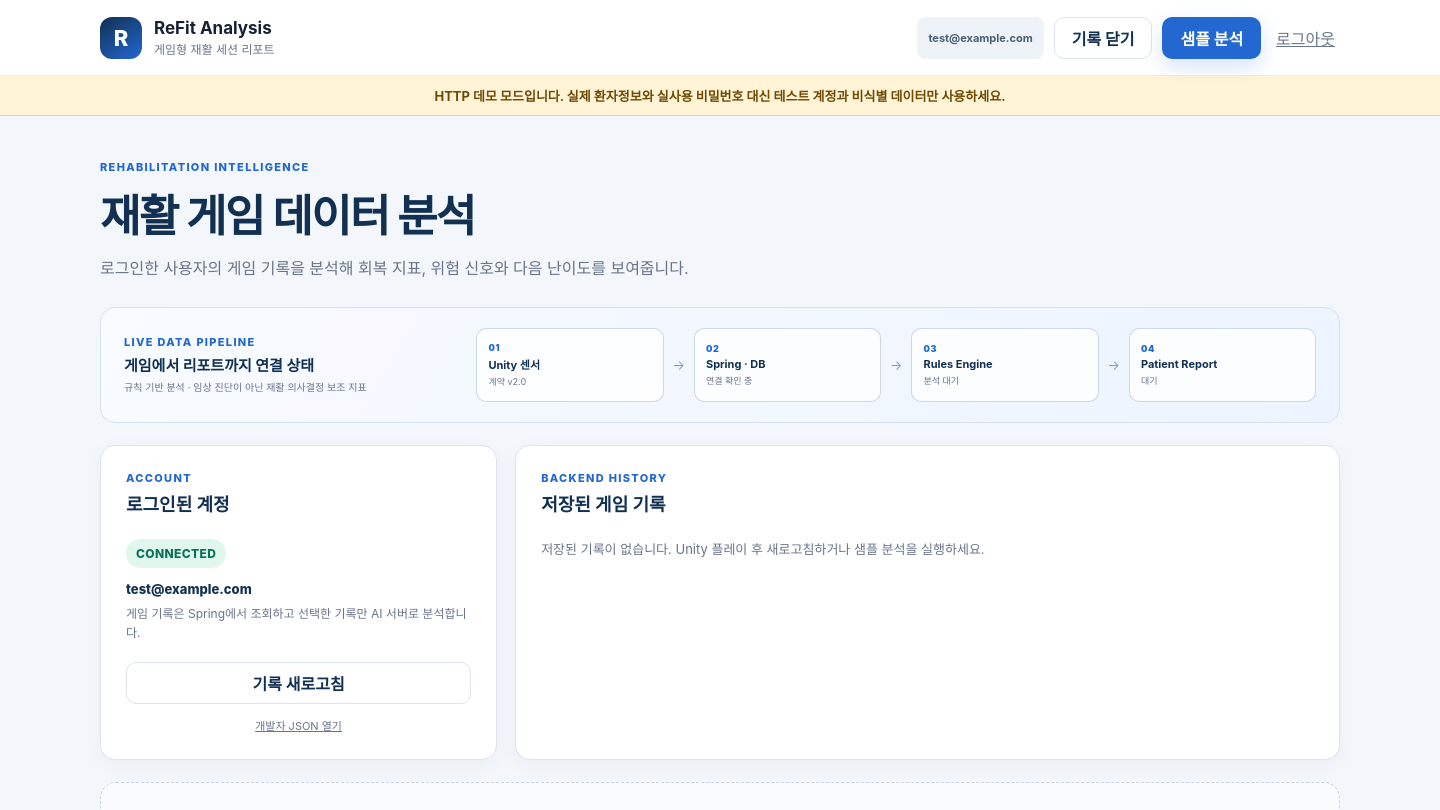
Scenario: falls back to the latest persisted result when a new analysis is unavailable
The width and height of the screenshot is (1440, 810).
Step 1. Click the button "기록 새로고침" → (299, 683), box x1=126 y1=662 x2=471 y2=704
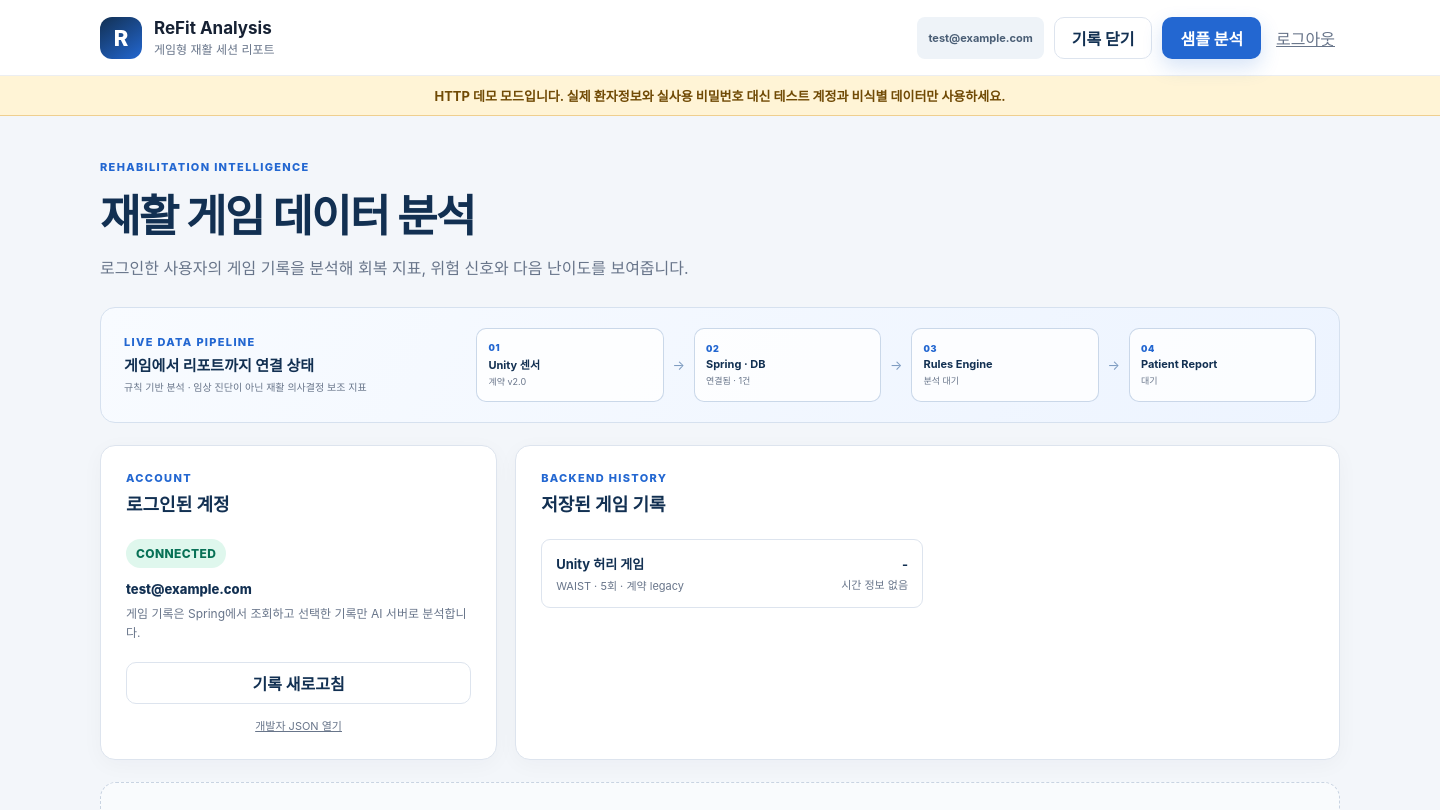
Step 2. Click the button "Unity 허리 게임 WAIST · 5회 · 계약 legacy - 시간 정보 없음" → (600, 564), box x1=541 y1=539 x2=923 y2=608
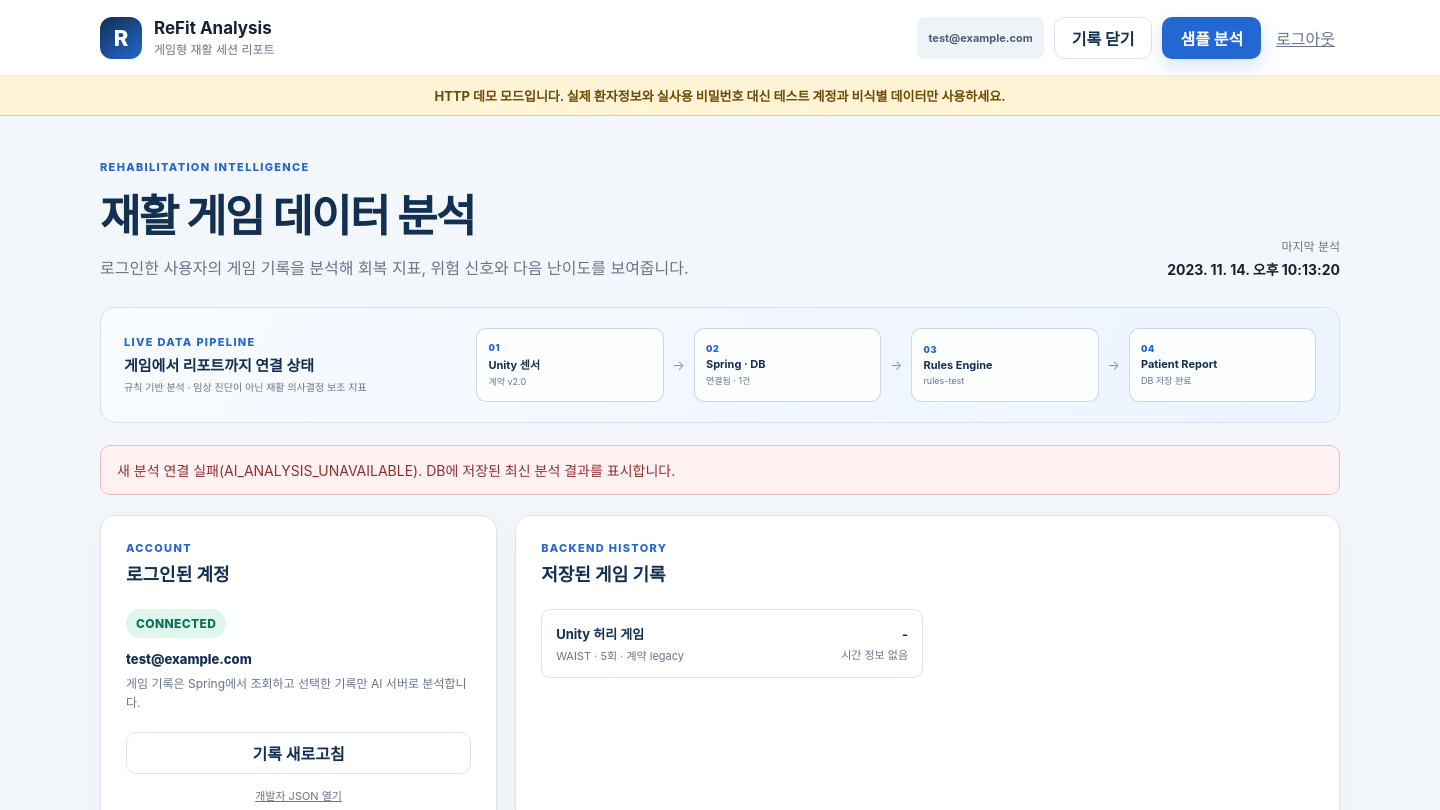
Now the text "DB에 저장된 최신 분석 결과를 표시합니다" is shown, box x1=117 y1=462 x2=675 y2=479
